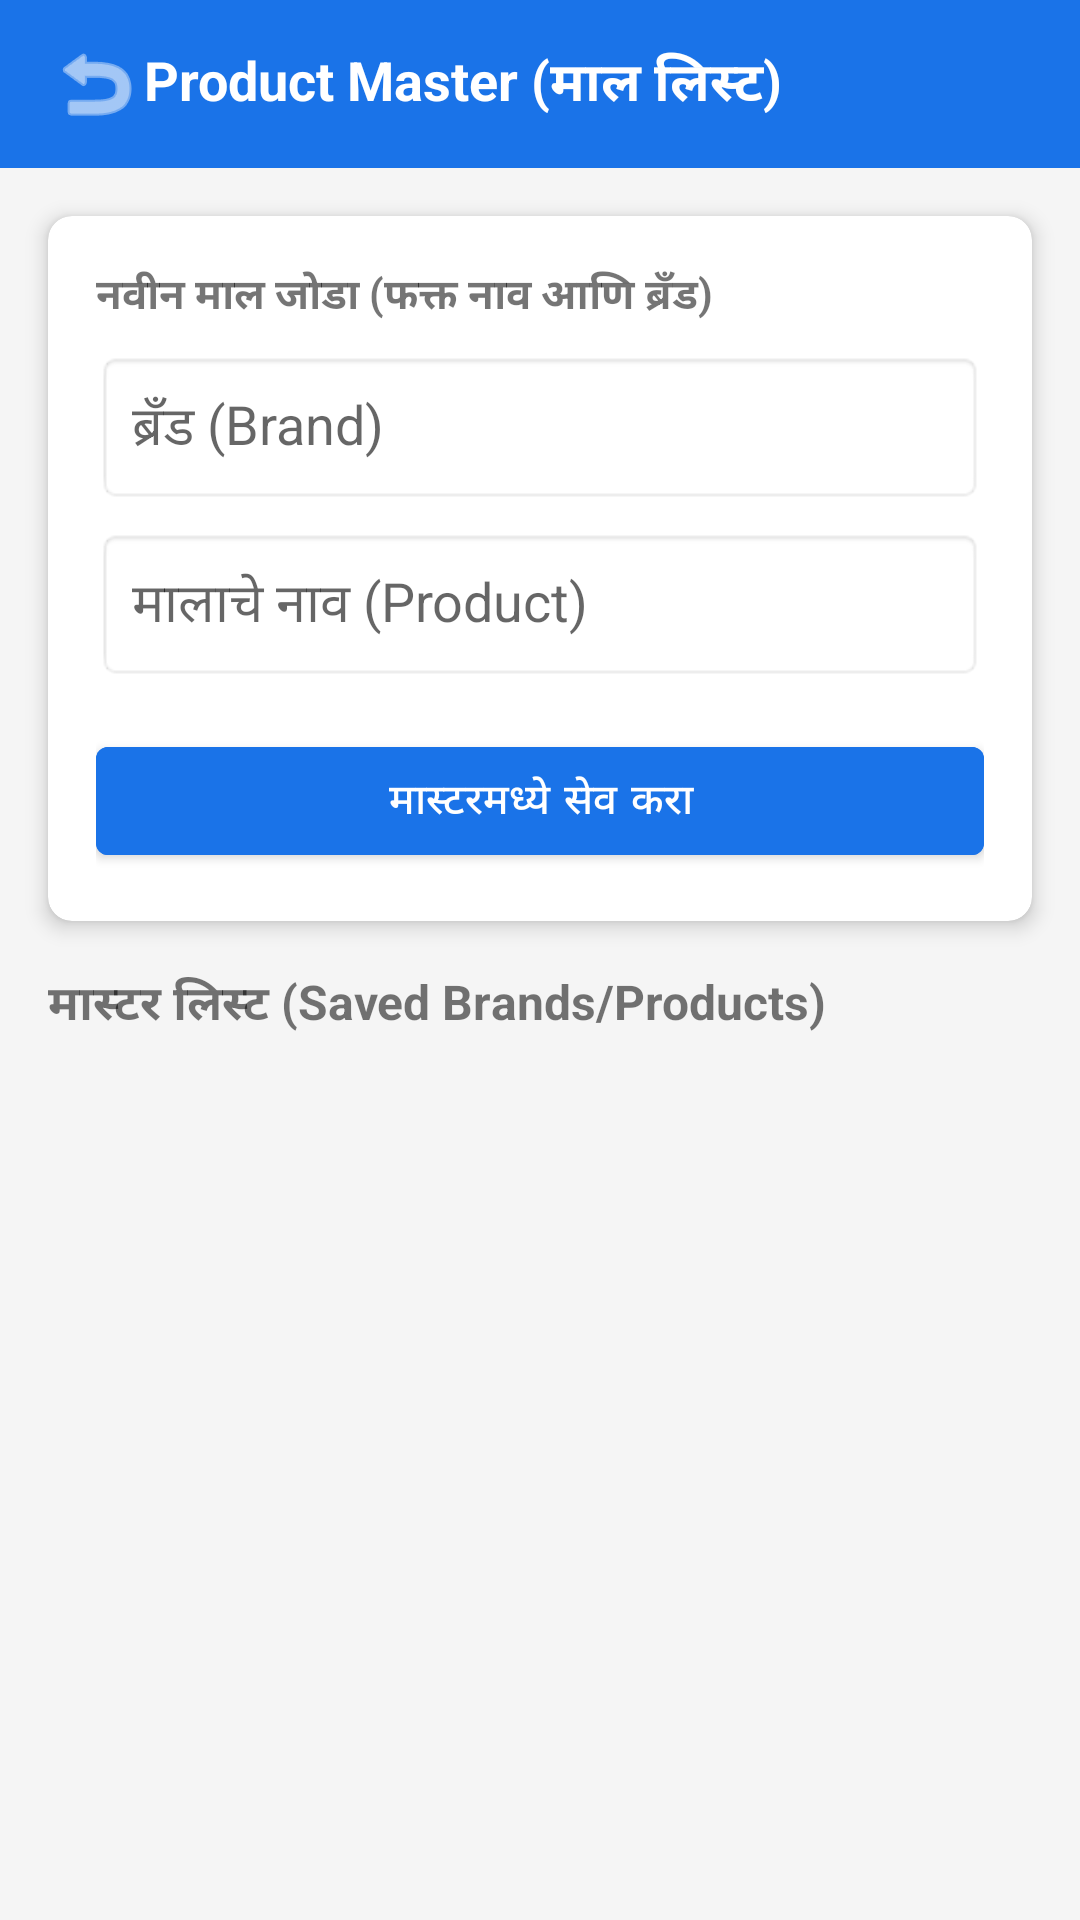

Named icons in this screenshot (1080x1920) and their centers, [x,y]:
revert: [97,84]
